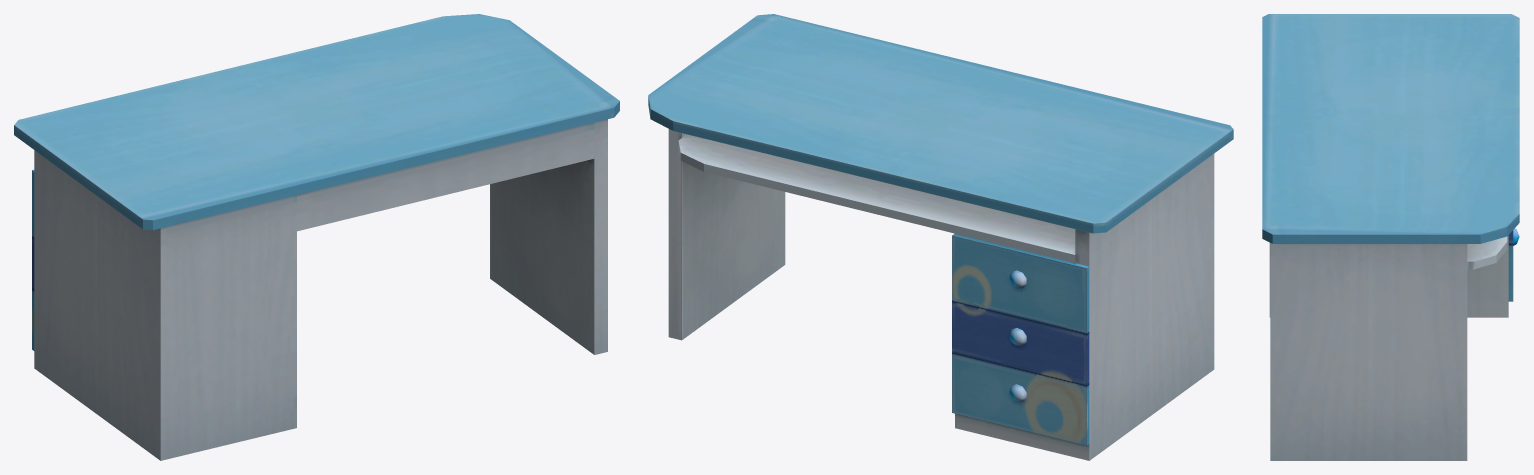
Rendered from furni_0200503.FBX.
3 views of the same model, side by side, from view 1: azimuth 30°, elevation 25°; view 2: azimuth 150°, elevation 25°; view 3: azimuth 270°, elevation 25° (orthographic). The views are drawn at different scales.
Parts seen in each view (by area): view 1: furni_0200503; view 2: furni_0200503; view 3: furni_0200503.
Part boxes in pixels (x1,y1,x2,y2): furni_0200503: [14, 14, 619, 460]; furni_0200503: [648, 14, 1233, 460]; furni_0200503: [1262, 14, 1519, 460].
Bounding box in the file's own units: 158 × 77.65 × 77.88.
1 material, 1 textured.
